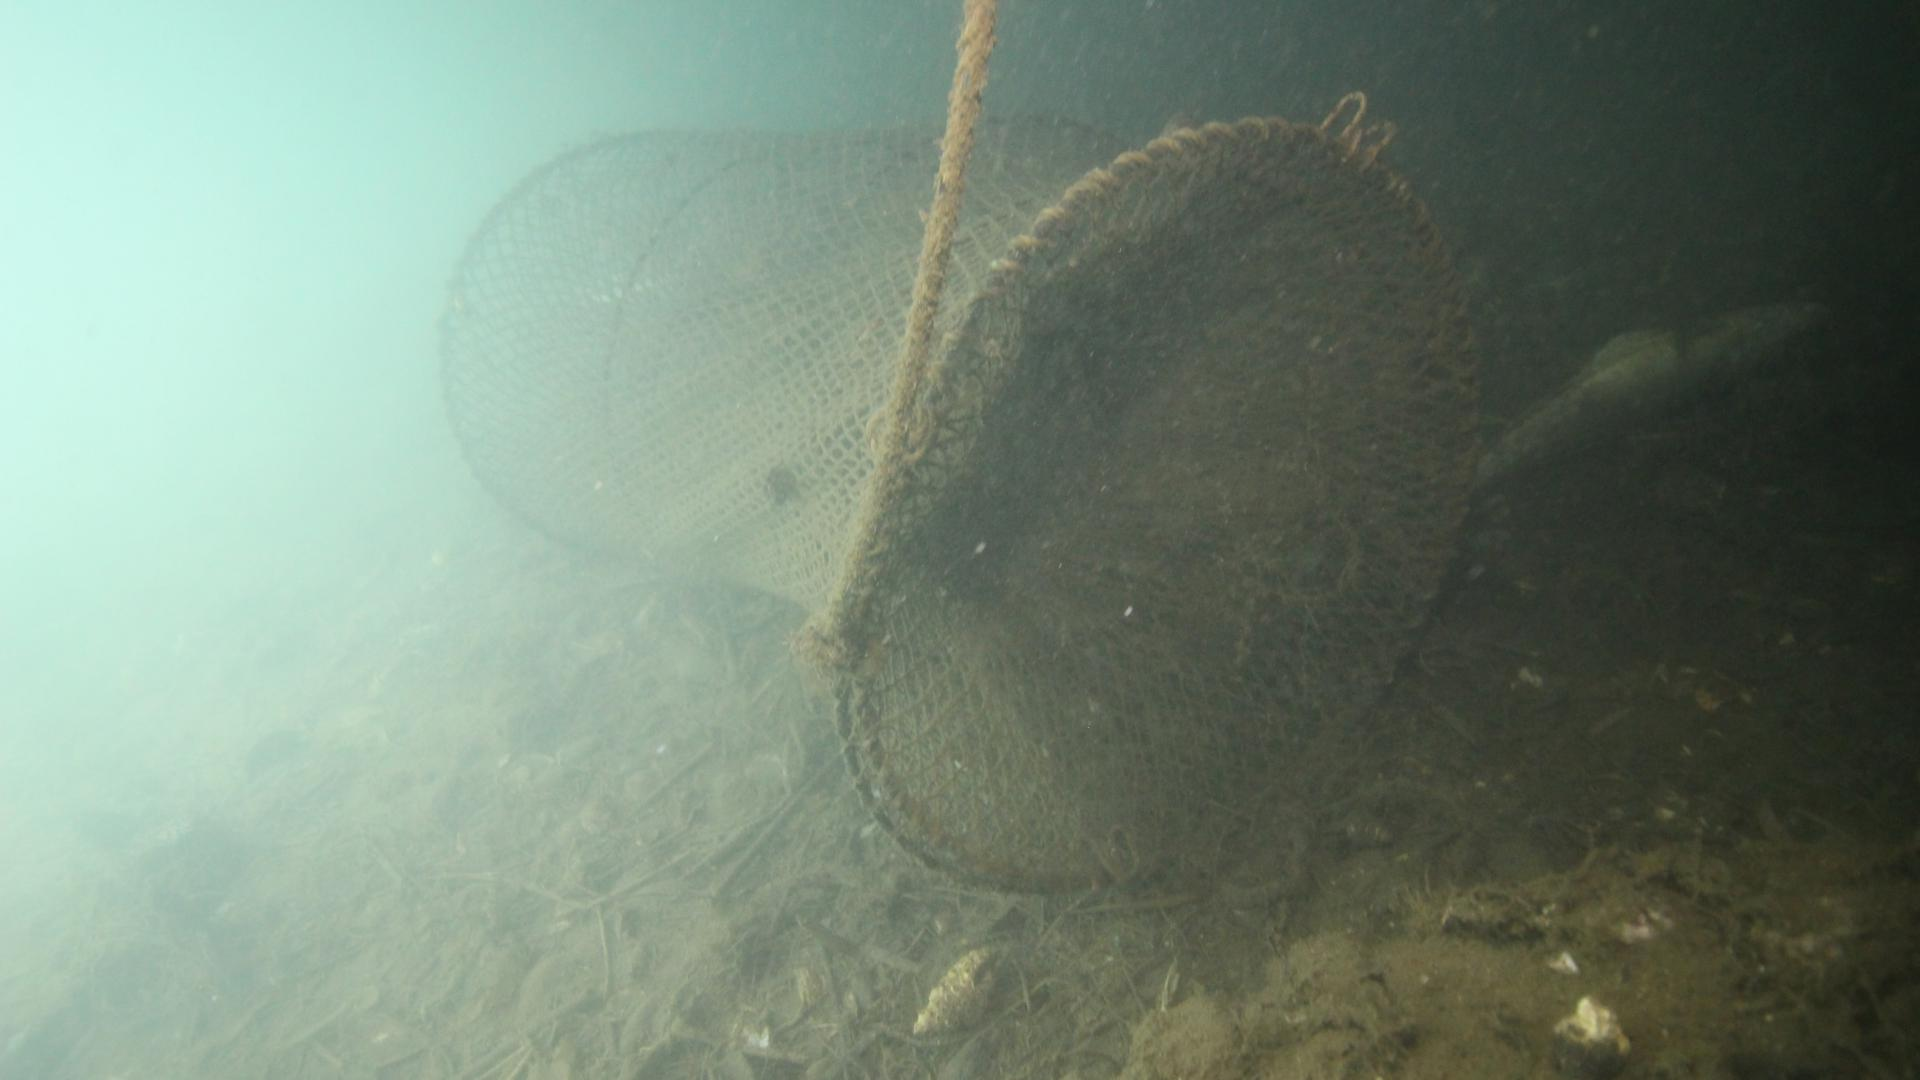rope: (880, 0, 1000, 423)
spring fish trap: (433, 115, 1484, 895)
